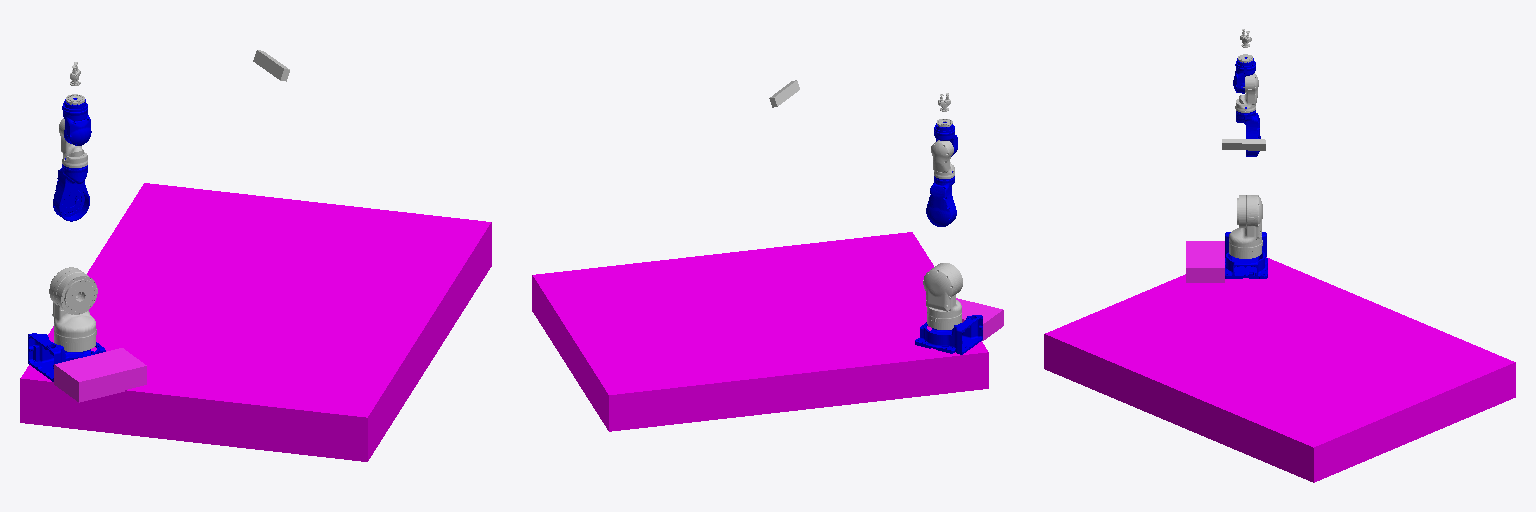
The robot description file, URDF, robot "motoman_vacumm":
<?xml version="1.0" ?>
<!-- =================================================================================== -->
<!-- |    This document was autogenerated by xacro from urdf/mantis.xacro              | -->
<!-- |    EDITING THIS FILE BY HAND IS NOT RECOMMENDED                                 | -->
<!-- =================================================================================== -->
<robot name="motoman_vacumm" xmlns:xacro="http://ros.org/wiki/xacro">
  <!-- instantiating arm and gripper -->
  <link name="base_link">
    <visual>
      <geometry>
        <mesh filename="package://motoman_config/meshes/sia20d/visual/MOTOMAN_BASE.stl"/>
      </geometry>
      <material name="blue">
        <color rgba="0 0 1 1"/>
      </material>
    </visual>
    <collision>
      <geometry>
        <mesh filename="package://motoman_config/meshes/sia20d/collision/MOTOMAN_BASE.stl"/>
      </geometry>
      <material name="yellow">
        <color rgba="0 1 1 1"/>
      </material>
    </collision>
  </link>
  <link name="link_s">
    <visual>
      <origin rpy="0 0 3.1416" xyz="0 0 0"/>
      <geometry>
        <mesh filename="package://motoman_config/meshes/sia20d/visual/MOTOMAN_AXIS_S.stl"/>
      </geometry>
      <material name="silver">
        <color rgba="0.8 0.8 0.8 1"/>
      </material>
    </visual>
    <collision>
      <origin rpy="0 0 3.1416" xyz="0 0 0"/>
      <geometry>
        <mesh filename="package://motoman_config/meshes/sia20d/collision/MOTOMAN_AXIS_S.stl"/>
      </geometry>
      <material name="yellow"/>
    </collision>
  </link>
  <link name="link_l">
    <visual>
      <origin rpy="1.57 3.1416 3.1416" xyz="0 0 0"/>
      <geometry>
        <mesh filename="package://motoman_config/meshes/sia20d/visual/MOTOMAN_AXIS_L.stl"/>
      </geometry>
      <material name="blue"/>
    </visual>
    <collision>
      <origin rpy="1.57 3.1416 3.1416" xyz="0 0 0"/>
      <geometry>
        <mesh filename="package://motoman_config/meshes/sia20d/collision/MOTOMAN_AXIS_L.stl"/>
      </geometry>
      <material name="yellow"/>
    </collision>
  </link>
  <link name="link_e">
    <visual>
      <origin rpy="0 0 0" xyz="0 0 0"/>
      <geometry>
        <mesh filename="package://motoman_config/meshes/sia20d/visual/MOTOMAN_AXIS_E.stl"/>
      </geometry>
      <material name="silver"/>
    </visual>
    <collision>
      <origin rpy="0 0 0" xyz="0 0 0"/>
      <geometry>
        <mesh filename="package://motoman_config/meshes/sia20d/collision/MOTOMAN_AXIS_E.stl"/>
      </geometry>
      <material name="yellow"/>
    </collision>
  </link>
  <link name="link_u">
    <visual>
      <origin rpy="1.57 -3.1415 3.1416" xyz="0 0 0"/>
      <geometry>
        <mesh filename="package://motoman_config/meshes/sia20d/visual/MOTOMAN_AXIS_U.stl"/>
      </geometry>
      <material name="blue"/>
    </visual>
    <collision>
      <origin rpy="1.57 -3.1415 3.1416" xyz="0 0 0"/>
      <geometry>
        <mesh filename="package://motoman_config/meshes/sia20d/collision/MOTOMAN_AXIS_U.stl"/>
      </geometry>
      <material name="yellow"/>
    </collision>
  </link>
  <link name="link_r">
    <visual>
      <origin rpy="0 0 0" xyz="0 0 0"/>
      <geometry>
        <mesh filename="package://motoman_config/meshes/sia20d/visual/MOTOMAN_AXIS_R.stl"/>
      </geometry>
      <material name="silver"/>
    </visual>
    <collision>
      <origin rpy="0 0 0" xyz="0 0 0"/>
      <geometry>
        <mesh filename="package://motoman_config/meshes/sia20d/collision/MOTOMAN_AXIS_R.stl"/>
      </geometry>
      <material name="yellow"/>
    </collision>
  </link>
  <link name="link_b">
    <visual>
      <origin rpy="-1.57 0 0" xyz="0 0 0"/>
      <geometry>
        <mesh filename="package://motoman_config/meshes/sia20d/visual/MOTOMAN_AXIS_B.stl"/>
      </geometry>
      <material name="blue"/>
    </visual>
    <collision>
      <origin rpy="-1.57 0 0" xyz="0 0 0"/>
      <geometry>
        <mesh filename="package://motoman_config/meshes/sia20d/collision/MOTOMAN_AXIS_B.stl"/>
      </geometry>
      <material name="yellow"/>
    </collision>
  </link>
  <link name="link_t">
    <visual>
      <geometry>
        <mesh filename="package://motoman_config/meshes/sia20d/visual/MOTOMAN_AXIS_T.stl"/>
      </geometry>
      <material name="silver"/>
    </visual>
    <collision>
      <geometry>
        <mesh filename="package://motoman_config/meshes/sia20d/collision/MOTOMAN_AXIS_T.stl"/>
      </geometry>
      <material name="yellow"/>
    </collision>
  </link>
  <joint name="joint_s" type="revolute">
    <parent link="base_link"/>
    <child link="link_s"/>
    <origin rpy="0 0 0" xyz="0 0 0.41"/>
    <axis xyz="0 0 1"/>
    <limit effort="100" lower="-3.1416" upper="3.1416" velocity="2.26"/>
  </joint>
  <joint name="joint_l" type="revolute">
    <parent link="link_s"/>
    <child link="link_l"/>
    <origin rpy="0 0 0" xyz="0 0 0"/>
    <axis xyz="0 1 0"/>
    <limit effort="100" lower="-1.91" upper="1.91" velocity="2.26"/>
  </joint>
  <joint name="joint_e" type="revolute">
    <parent link="link_l"/>
    <child link="link_e"/>
    <origin rpy="0 0 0" xyz="0 0 0.49"/>
    <axis xyz="0 0 1"/>
    <limit effort="100" lower="-2.96" upper="2.96" velocity="2.96"/>
  </joint>
  <joint name="joint_u" type="revolute">
    <parent link="link_e"/>
    <child link="link_u"/>
    <origin rpy="0 0 0" xyz="0 0 0"/>
    <axis xyz="0 -1 0"/>
    <limit effort="100" lower="-2.26" upper="2.26" velocity="2.96"/>
  </joint>
  <joint name="joint_r" type="revolute">
    <parent link="link_u"/>
    <child link="link_r"/>
    <origin rpy="0 0 0" xyz="0 0 0.420"/>
    <axis xyz="0 0 -1"/>
    <limit effort="100" lower="-3.1416" upper="3.1416" velocity="3.48"/>
  </joint>
  <joint name="joint_b" type="revolute">
    <parent link="link_r"/>
    <child link="link_b"/>
    <origin rpy="0 0 0" xyz="0 0 0"/>
    <axis xyz="0 -1 0"/>
    <limit effort="100" lower="-1.91" upper="1.91" velocity="3.48"/>
  </joint>
  <joint name="joint_t" type="revolute">
    <parent link="link_b"/>
    <child link="link_t"/>
    <origin rpy="0 0 0" xyz="0 0 0.18"/>
    <axis xyz="0 0 -1"/>
    <limit effort="100" lower="-3.1416" upper="3.1416" velocity="6.97"/>
  </joint>
  <link name="palm">
    <visual>
      <origin rpy="0 0 0" xyz="0 0.036 -0.1"/>
      <geometry>
        <mesh filename="package://mantis_config/config/meshes/vacuum_gripper.STL"/>
      </geometry>
      <material name="silver">
        <color rgba="0.8 0.8 0.8 1"/>
      </material>
    </visual>
    <collision>
      <origin rpy="0 0 0" xyz="0 0.036 -0.1"/>
      <geometry>
        <mesh filename="package://mantis_config/config/meshes/vacuum_gripper.stl"/>
      </geometry>
      <material name="another_blue2">
        <color rgba="0.38 0.54 0.83 1"/>
      </material>
    </collision>
  </link>
  <!-- property list -->
  <!-- link sub-blocks -->
  <!-- arm-gripper coupling links -->
  <link name="coupler">
    <visual>
      <geometry>
        <mesh filename="package://longhorn/meshes/coupler/visual/COUPLER.stl"/>
      </geometry>
      <material name="orange">
        <color rgba="1 0.5 0 1"/>
      </material>
    </visual>
    <collision>
      <geometry>
        <mesh filename="package://longhorn/meshes/coupler/collision/COUPLER.stl"/>
      </geometry>
      <material name="yellow">
        <color rgba="0 1 1 1"/>
      </material>
    </collision>
  </link>
  <!-- end of arm-gripper coupling links -->
  <!-- arm-gripper coupling joints -->
  <joint name="tool-coupler" type="fixed">
    <parent link="link_t"/>
    <child link="coupler"/>
    <origin rpy="1.570 0 -0.785" xyz="0 0 0"/>
  </joint>
  <joint name="coupler-hand" type="fixed">
    <parent link="coupler"/>
    <child link="palm"/>
    <origin rpy="-1.570 0 0" xyz="0 0.182 0.036"/>
  </joint>
  <!-- end of arm-gripper coupling joints -->
  <!-- environment objects -->
  <link name="table">
    <visual>
      <geometry>
        <box size="1.83 2.44 0.25"/>
      </geometry>
      <material name="">
        <color rgba="1 0 1 1"/>
      </material>
    </visual>
    <collision>
      <geometry>
        <box size="1.83 2.44 0.25"/>
      </geometry>
      <material name="">
        <color rgba="1 0 1 1"/>
      </material>
    </collision>
  </link>
  <link name="table_keepout_1">
    <collision>
      <geometry>
        <box size="2.08 0.25 2"/>
      </geometry>
      <material name="">
        <color rgba="1 0.2 1 0.1"/>
      </material>
    </collision>
  </link>
  <link name="table_keepout_2">
    <collision>
      <geometry>
        <box size="0.25 2.69 2"/>
      </geometry>
      <material name="">
        <color rgba="1 0.2 1 0.1"/>
      </material>
    </collision>
  </link>
  <link name="power_supply">
    <visual>
      <geometry>
        <box size="0.400 0.250 0.115"/>
      </geometry>
      <material name="">
        <color rgba="1 0.2 1 0.1"/>
      </material>
    </visual>
    <collision>
      <geometry>
        <box size="0.400 0.250 0.115"/>
      </geometry>
      <material name="">
        <color rgba="1 0.2 1 0.1"/>
      </material>
    </collision>
  </link>
  <link name="kinect_keepout">
    <collision>
      <geometry>
        <box size="0.25 2.69 2"/>
      </geometry>
      <material name="">
        <color rgba="1 0.2 1 0.1"/>
      </material>
    </collision>
  </link>
  <link name="kinect">
    <collision>
      <geometry>
        <box size="0.36 0.28 0.22"/>
      </geometry>
      <material name="">
        <color rgba="1 0.8 1 0.1"/>
      </material>
    </collision>
  </link>
  <!-- end of environment objects -->
  <!-- environment joints -->
  <joint name="base-table" type="fixed">
    <parent link="base_link"/>
    <child link="table"/>
    <origin rpy="0 0 -0.785" xyz="1.19 0.22 -0.125"/>
  </joint>
  <joint name="base-kinect" type="fixed">
    <parent link="base_link"/>
    <child link="kinect"/>
    <origin rpy="0.06 1.19 3.19" xyz="1.15 -0.01 1.42"/>
  </joint>  
<!--	<link name="kinect1">
		<visual>
			<origin rpy="0 0 0" xyz="0 0 0"/>
			<geometry>
				<sphere radius="0.0005"/>
			</geometry>
		</visual>
	</link>
	<link name="kinect2">
		<visual>
			<origin rpy="0 0 0" xyz="0 0 0"/>
			<geometry>
				<sphere radius="0.0005"/>
			</geometry>
		</visual>
	</link>
	<link name="kinect3">
		<visual>
			<origin rpy="0 0 0" xyz="0 0 0"/>
			<geometry>
				<sphere radius="0.0005"/>
			</geometry>
		</visual>
	</link>
	<link name="kinect4">
		<visual>
			<origin rpy="0 0 0" xyz="0 0 0"/>
			<geometry>
				<sphere radius="0.0005"/>
			</geometry>
		</visual>
	</link>
	<link name="kinect5">
		<visual>
			<origin rpy="0 0 0" xyz="0 0 0"/>
			<geometry>
				<sphere radius="0.0005"/>
			</geometry>
		</visual>
	</link>
	<link name="kinect6">
		<visual>
			<origin rpy="0 0 0" xyz="0 0 0"/>
			<geometry>
				<sphere radius="0.0005"/>
			</geometry>
		</visual>
	</link>
  <joint name="base-kinect1-z" type="prismatic"> 
    <parent link="base_link"/>
    <child link="kinect1"/>
    <origin rpy="0 0 0" xyz="0 0 1.42"/>
    <axis xyz="0 0 1"/>
    <limit effort="100" lower="-0.5" upper="0.5" velocity="3.48"/>
  </joint>
  <joint name="kinect1-kinect2-y" type="prismatic">
    <parent link="kinect1"/>
    <child link="kinect2"/>
    <origin rpy="0 0 0" xyz="0 -0.01 0"/>
    <axis xyz="0 1 0"/>
    <limit effort="100" lower="-0.5" upper="0.5" velocity="3.48"/>
  </joint>
  <joint name="kinect2-kinect3-x" type="prismatic">
    <parent link="kinect2"/>
    <child link="kinect3"/>
    <origin rpy="0 0 0" xyz="1.15 0 0"/>
    <axis xyz="1 0 0"/>
    <limit effort="100" lower="-0.15" upper="0.15" velocity="3.48"/>
  </joint>
  <joint name="kinect3-kinect4-y" type="revolute">
    <parent link="kinect3"/>
    <child link="kinect4"/>
    <origin rpy="0 0 3.19" xyz="0 0 0"/>
    <axis xyz="0 0 1"/>
    <limit effort="100" lower="-0.52" upper="0.52" velocity="3.48"/>
  </joint>
  <joint name="kinect4-kinect5-p" type="revolute">
    <parent link="kinect4"/>
    <child link="kinect5"/>
    <origin rpy="0 1.19 0" xyz="0 0 0"/>
    <axis xyz="0 1 0"/>
    <limit effort="100" lower="-0.52" upper="0.52" velocity="3.48"/>
  </joint>
  <joint name="kinect5-kinect6-r" type="revolute">
    <parent link="kinect5"/>
    <child link="kinect6"/>
    <origin rpy="0.06 0 0" xyz="0 0 0"/>
    <axis xyz="1 0 0"/>
    <limit effort="100" lower="-0.1" upper="0.1" velocity="3.48"/>
  </joint>
  <joint name="kinect6-kinect" type="revolute">
    <parent link="kinect6"/>
    <child link="kinect"/>
    <origin rpy="0 0 0" xyz="0 0 0"/>
    <axis xyz="1 0 0"/>
    <limit effort="100" lower="-0.1" upper="0.1" velocity="3.48"/>
  </joint> -->
<!-- END EXPERIMENT base_link to kinect-->
  <joint name="table-keepout_1" type="fixed">
    <parent link="table"/>
    <child link="table_keepout_1"/>
    <origin rpy="0 0 0" xyz="0 -1.34 1"/>
  </joint>
  <joint name="table-keepout_2" type="fixed">
    <parent link="table"/>
    <child link="table_keepout_2"/>
    <origin rpy="0 0 0" xyz="-1.025 0 1"/>
  </joint>
  <joint name="base-power_supply" type="fixed">
    <parent link="base_link"/>
    <child link="power_supply"/>
    <origin rpy="0 0 0" xyz="0 -0.260 0.050"/>
  </joint>
  <joint name="table-kinect" type="fixed">
    <parent link="table"/>
    <child link="kinect_keepout"/>
    <origin rpy="0 0 0" xyz=".5 0 1"/>
  </joint><axis xyz="0 1 0"/>
    <limit effort="100" lower="-0.52" upper="0.52" velocity="3.48"/>
  <!-- end of environment joints -->
  <!-- sensor links -->
  <link name="kinect_frame">
    <visual>
      <origin rpy="0 0 0" xyz="0 0 0"/>
      <geometry>
        <box size="0.064 0.28 0.04"/>
      </geometry>
      <material name="silver"/>
    </visual>
    <collision>
      <origin rpy="0 0 0" xyz="0 0 0"/>
      <geometry>
        <box size="0.064 0.28 0.04"/>
      </geometry>
    </collision>
  </link>
  <link name="kinect_ir_link">
    <visual>
      <origin rpy="0 0 0" xyz="0 0 0"/>
      <geometry>
        <sphere radius="0.0005"/>
      </geometry>
    </visual>
  </link>
  <link name="kinect_rgb_link">
    <visual>
      <origin rpy="0 0 0" xyz="0 0 0"/>
      <geometry>
        <sphere radius="0.0005"/>
      </geometry>
    </visual>
  </link>
  <link name="kinect_ir_optical_frame"/>
  <link name="kinect_rgb_optical_frame"/>
  <!-- end of sensor links -->
  <!-- sensor joints -->
  <joint name="kinect_frame_joint" type="fixed">
    <parent link="kinect"/>
    <child link="kinect_frame"/>
    <origin rpy="0 0 0" xyz="0 0 0"/>
  </joint>
  <joint name="kinect_ir_joint" type="fixed">
    <parent link="kinect_frame"/>
    <child link="kinect_ir_link"/>
    <origin rpy="0 0 0" xyz="0 0 0"/>
  </joint>
  <joint name="kinect_ir_optical_frame_joint" type="revolute">
    <parent link="kinect_ir_link"/>
    <child link="kinect_ir_optical_frame"/>
    <origin rpy="-1.57 0 -1.57" xyz="0 0 0"/>
    <axis xyz="1 0 0"/>
    <limit effort="100" lower="-1" upper="1" velocity="3.48"/>
  </joint>
  <joint name="kinect_rgb_joint" type="fixed">
    <parent link="kinect_ir_link"/>
    <child link="kinect_rgb_link"/>
    <origin rpy="0 0 0" xyz="0 -0.03 0"/>
  </joint>
  <joint name="kinect_rgb_optical_frame_joint" type="fixed">
    <parent link="kinect_rgb_link"/>
    <child link="kinect_rgb_optical_frame"/>
    <origin rpy="-1.57 0 -1.57" xyz="0 0 0"/>
  </joint>
  <!-- end of sensor joints -->
</robot>

--- Render facts (derived) ---
3 views of the same robot in one strip: view 1: azimuth 30°, elevation 25°; view 2: azimuth 150°, elevation 25°; view 3: azimuth 270°, elevation 25° (orthographic).
Model motoman_vacumm with 21 links and 20 joints (8 revolute, 12 fixed), rooted at base_link, posed every joint at zero.
Visible links, largest first — view 1: table, power_supply, link_s, link_u, base_link, link_b, link_r, kinect_frame; view 2: table, link_s, base_link, link_u, power_supply, link_r; view 3: table, link_s, power_supply, base_link, link_r, link_u.
Boxes of the visible links, left/top/right/bottom form: table: left=20, top=183, right=491, bottom=461; power_supply: left=54, top=348, right=146, bottom=402; link_s: left=49, top=267, right=97, bottom=351; link_u: left=53, top=158, right=89, bottom=221; base_link: left=28, top=333, right=105, bottom=381; link_b: left=62, top=98, right=91, bottom=145; link_r: left=59, top=118, right=87, bottom=167; kinect_frame: left=253, top=50, right=289, bottom=81; table: left=532, top=232, right=988, bottom=431; link_s: left=923, top=263, right=962, bottom=329; base_link: left=915, top=315, right=982, bottom=354; link_u: left=926, top=171, right=956, bottom=226; power_supply: left=928, top=298, right=1003, bottom=340; link_r: left=931, top=140, right=954, bottom=178; table: left=1044, top=257, right=1515, bottom=482; link_s: left=1229, top=195, right=1262, bottom=258; power_supply: left=1186, top=241, right=1224, bottom=282; base_link: left=1225, top=232, right=1267, bottom=278; link_r: left=1235, top=73, right=1258, bottom=112; link_u: left=1236, top=107, right=1260, bottom=156.
Bounding box of the posed robot: 3.02 × 3.02 × 1.94 m (x, y, z).
Meshes: 10 distinct files referenced, 7 mesh visuals loaded (7 binary STL); not drawn: 3 (reference not matched to a file when rendering).